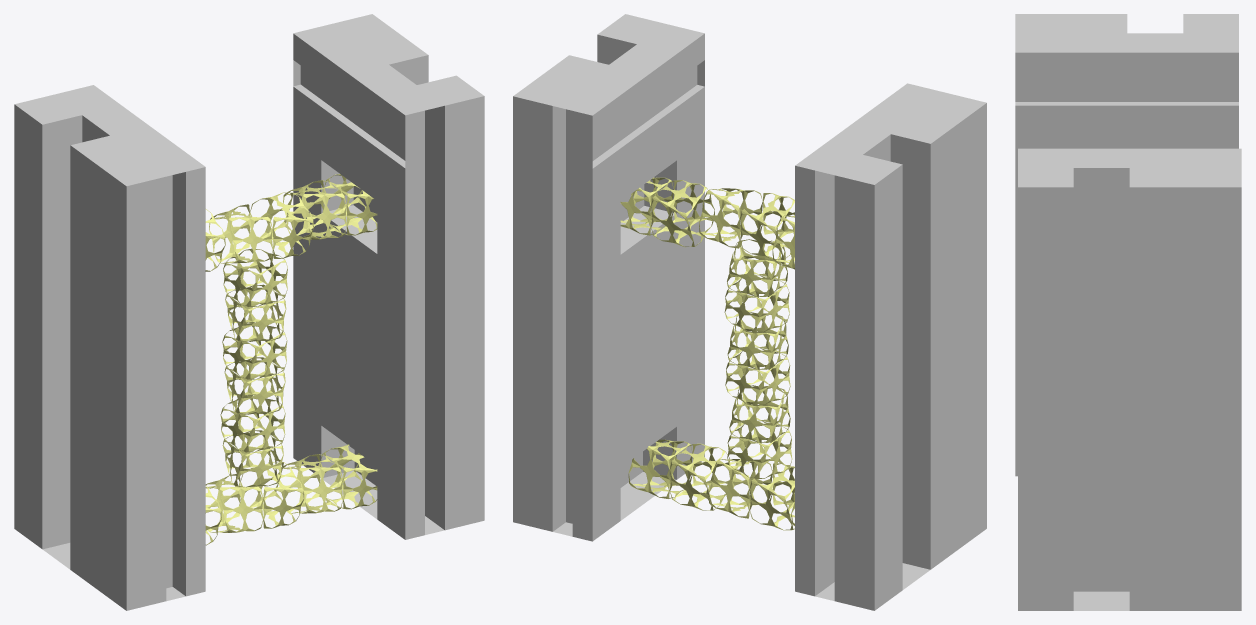
File: TowerBridge.fbx
The picture shows the model from 3 angles, left to right: view 1: azimuth 30°, elevation 25°; view 2: azimuth 150°, elevation 25°; view 3: azimuth 270°, elevation 25°; orthographic projection.
Parts seen in each view (by area): view 1: Cube, Cube.001, a.009, a.006, a.004, a.007, a.008, a.005, a.001; view 2: Cube, Cube.001, a.004, a.001, a.008, a.007, a.006, a.009, a.005; view 3: Cube.001, Cube.
Boxes of the visible parts, <box> form: Cube: <box>14,85,205,610</box>; Cube.001: <box>293,14,484,539</box>; a.009: <box>209,192,313,263</box>; a.006: <box>223,248,287,342</box>; a.004: <box>280,444,377,513</box>; a.007: <box>220,394,285,487</box>; a.008: <box>222,321,287,414</box>; a.005: <box>205,462,304,532</box>; a.001: <box>283,174,377,239</box>; Cube: <box>795,83,986,610</box>; Cube.001: <box>513,14,704,541</box>; a.004: <box>628,439,732,510</box>; a.001: <box>620,177,714,247</box>; a.008: <box>725,312,790,405</box>; a.007: <box>727,385,792,479</box>; a.006: <box>724,239,789,333</box>; a.009: <box>699,188,794,259</box>; a.005: <box>708,459,794,530</box>; Cube.001: <box>1018,148,1241,610</box>; Cube: <box>1015,14,1238,476</box>.
Bounding box in the file's own units: 3555 × 4032 × 1942.
